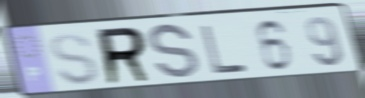6: (255, 18, 295, 72)
9: (304, 14, 345, 69)
L: (199, 23, 251, 75)
R: (95, 25, 155, 88)
S: (147, 21, 202, 83), (48, 31, 102, 88)
